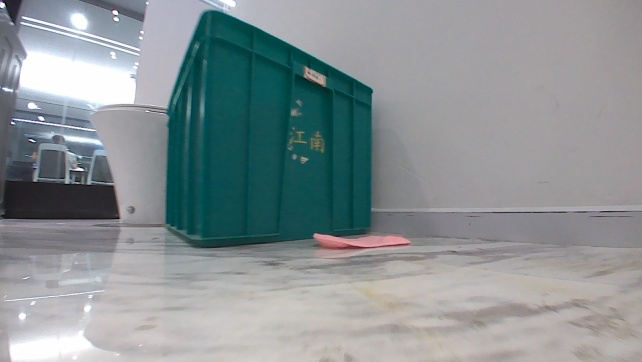socks: (309, 227, 411, 251)
toilet: (86, 101, 170, 227)
